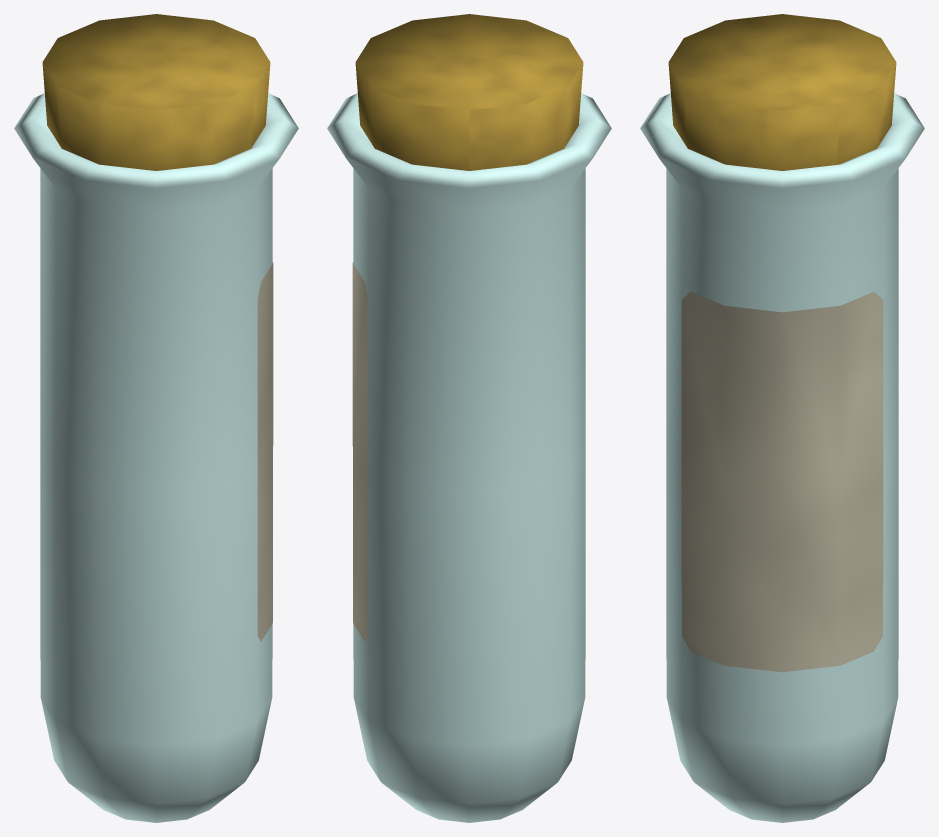
The model's file is tube-short.glb.
3 views of the same model, side by side, from view 1: azimuth 30°, elevation 25°; view 2: azimuth 150°, elevation 25°; view 3: azimuth 270°, elevation 25° (orthographic).
Visible parts, largest first — view 1: tube-short, cork-tube-short, tag-tube-short; view 2: tube-short, cork-tube-short, tag-tube-short; view 3: tube-short, tag-tube-short, cork-tube-short.
Boxes of the visible parts, <box> form: tube-short: <box>14,93,298,822</box>; cork-tube-short: <box>42,14,270,170</box>; tag-tube-short: <box>257,262,273,641</box>; tube-short: <box>327,93,611,822</box>; cork-tube-short: <box>355,14,583,170</box>; tag-tube-short: <box>352,262,368,641</box>; tube-short: <box>640,93,924,822</box>; tag-tube-short: <box>681,292,883,672</box>; cork-tube-short: <box>668,14,896,170</box>.
Bounding box in the file's own units: 0.0343 × 0.0986 × 0.0343.
Materials: 3 (2 with a texture image).
